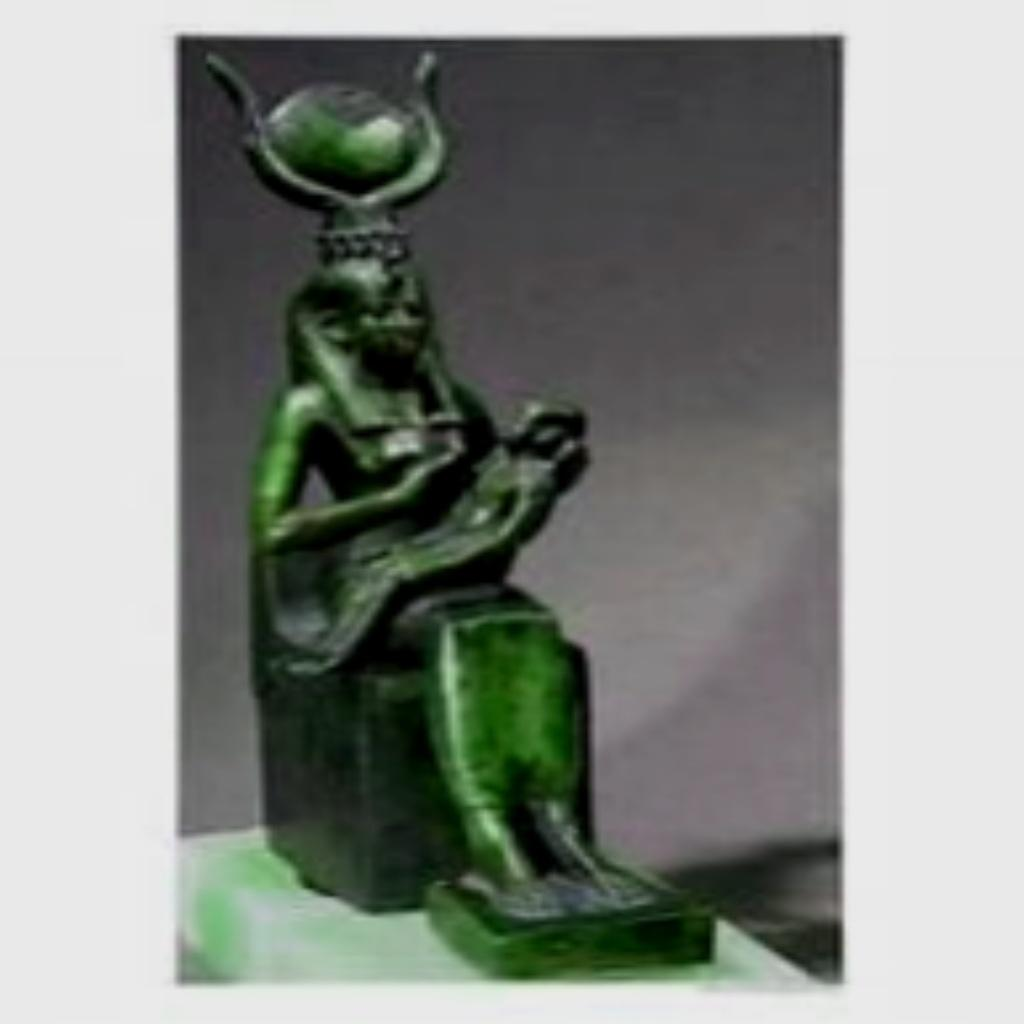Isis with her child: (186, 36, 732, 980)
